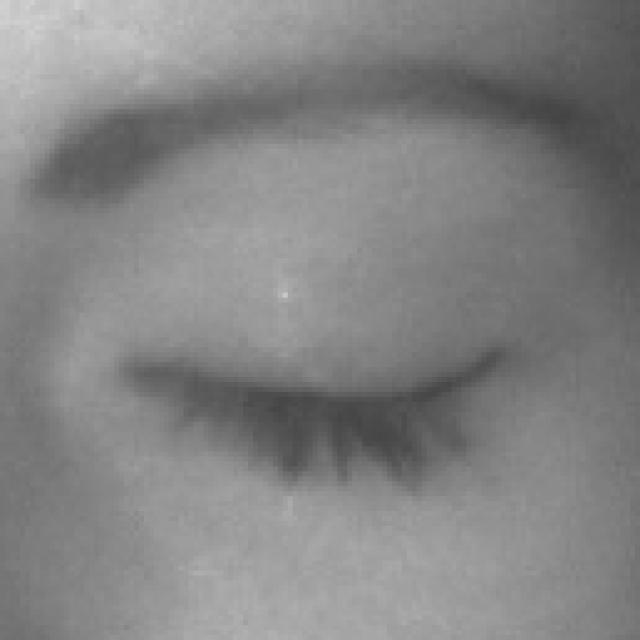Eyeclosed: (115, 207, 518, 620)
